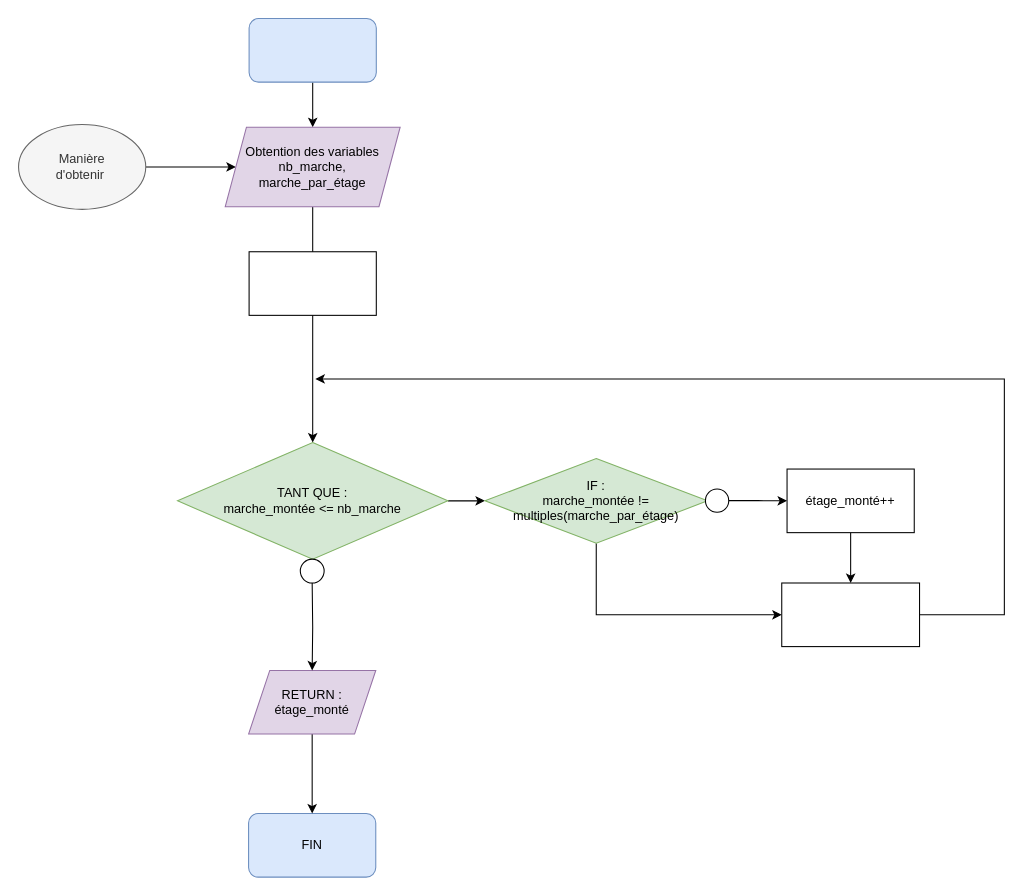
Image size: 1031x896. Some labels were removed from this diagram. The shapes that lost their labels are listed below. From the top down, each one's centre as x and y in pixels, then its label:
At [312,49]: "DEBUT :".
At [312,283]: "INITIALISATION : étage_monté = 0; marche_montée = 0;".
At [850,614]: "marche_montée++".
